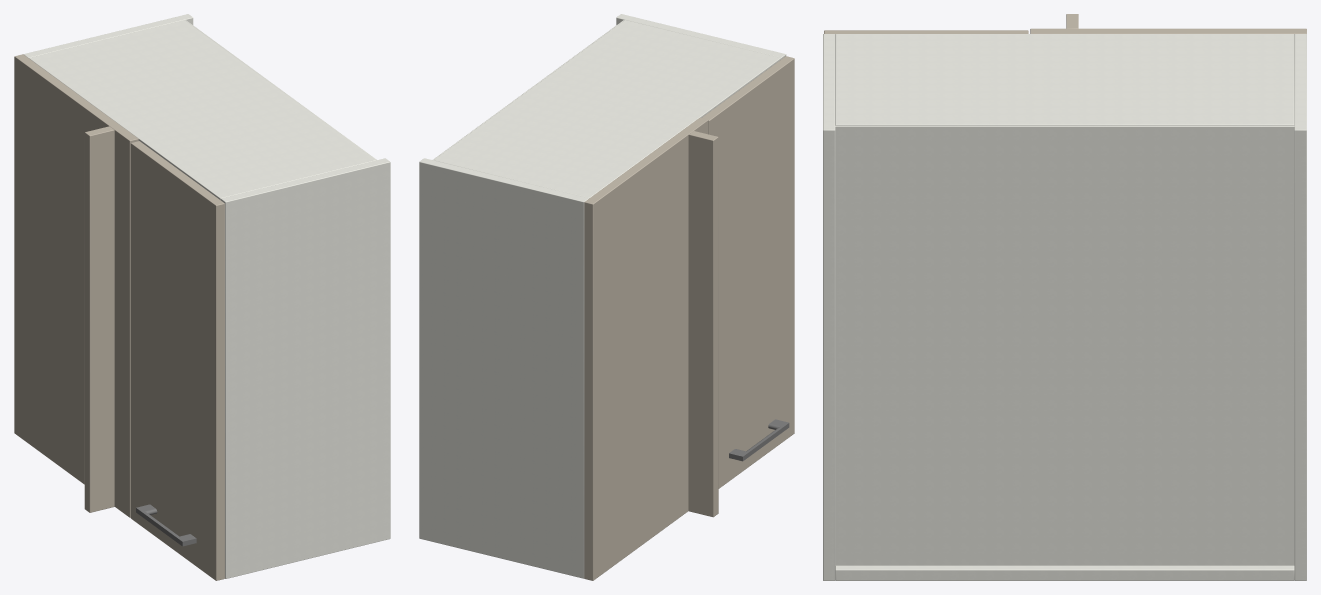
3 views of the same model, side by side, from view 1: azimuth 30°, elevation 25°; view 2: azimuth 150°, elevation 25°; view 3: azimuth 270°, elevation 25° (orthographic). The views are drawn at different scales.
Parts seen in each view (by area): view 1: u4, Union; view 2: u4, Union; view 3: u4.
Part boxes in pixels (x1=…): u4: x1=14, y1=14, x2=390, y2=580; Union: x1=136, y1=504, x2=196, y2=546; u4: x1=419, y1=14, x2=794, y2=580; Union: x1=729, y1=419, x2=789, y2=461; u4: x1=823, y1=14, x2=1306, y2=580.
Size of the model in its own units: 0.398 by 0.72 by 0.7.
3 materials, 2 textured.
